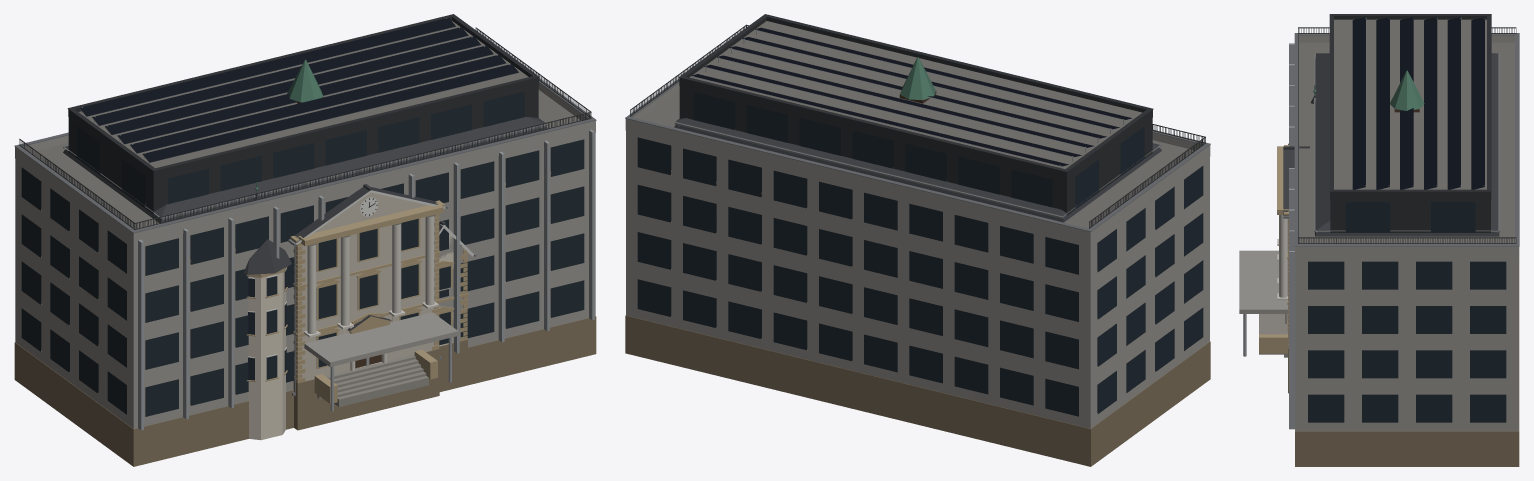
File: houses.glb
The picture shows the model from 3 angles, left to right: view 1: azimuth 30°, elevation 25°; view 2: azimuth 150°, elevation 25°; view 3: azimuth 270°, elevation 25°; orthographic projection. The views are drawn at different scales.
Parts seen in each view (by area): view 1: verwaltung-modern_lod0, verwaltung-modern_glas1, verwaltung-klassisch_lod0, villa-jugendstil_lod0, verwaltung-klassisch_glas1, villa-jugendstil_glas0, verwaltung-backstein_lod0; view 2: verwaltung-modern_lod0, verwaltung-modern_glas1, verwaltung-klassisch_lod0, verwaltung-backstein_lod0; view 3: verwaltung-modern_lod0, verwaltung-modern_glas1, verwaltung-klassisch_lod0, verwaltung-backstein_lod0.
Part boxes in pixels (x1,y1,x2,y2): verwaltung-modern_lod0: (14, 14, 596, 466); verwaltung-modern_glas1: (21, 91, 584, 416); verwaltung-klassisch_lod0: (63, 117, 550, 430); villa-jugendstil_lod0: (243, 182, 476, 440); verwaltung-klassisch_glas1: (318, 218, 418, 367); villa-jugendstil_glas0: (247, 270, 286, 380); verwaltung-backstein_lod0: (287, 59, 323, 103); verwaltung-modern_lod0: (625, 14, 1210, 466); verwaltung-modern_glas1: (637, 92, 1203, 416); verwaltung-klassisch_lod0: (671, 118, 1161, 222); verwaltung-backstein_lod0: (899, 57, 936, 103); verwaltung-modern_lod0: (1239, 14, 1519, 466); verwaltung-modern_glas1: (1308, 202, 1506, 422); verwaltung-klassisch_lod0: (1259, 53, 1500, 393); verwaltung-backstein_lod0: (1390, 70, 1424, 112).
Size of what is drawn, in the model's own units: 36.1 by 22.87 by 20.05.
